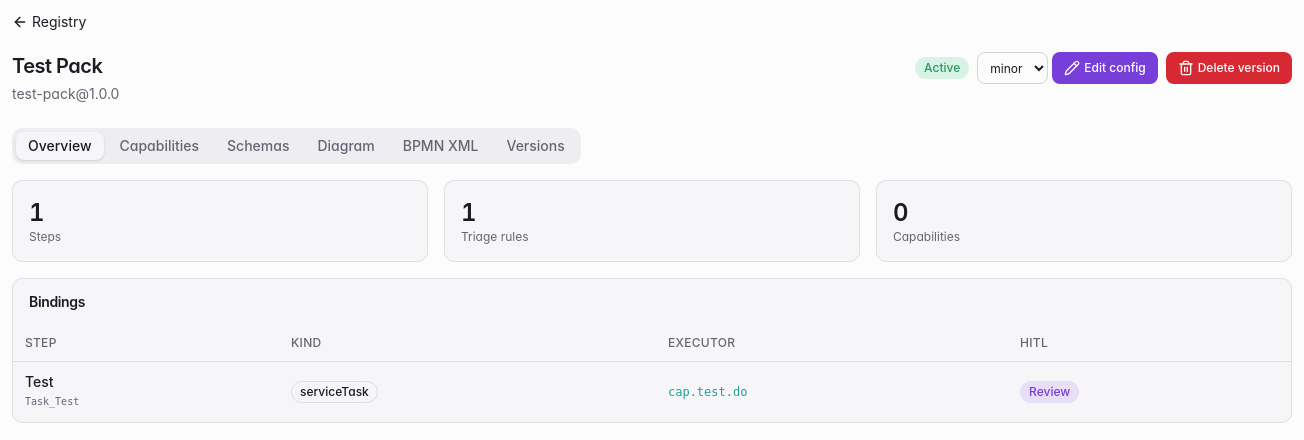
Scenario: Registry catalog › an owner can delete a pack version — confirming hits DELETE and navigates away
The width and height of the screenshot is (1304, 440).
Expected: the heading "Test Pack" is shown, [12,52,102,80]
Click the button "Delete version".
click(1229, 68)  # box [1166,52,1292,84]
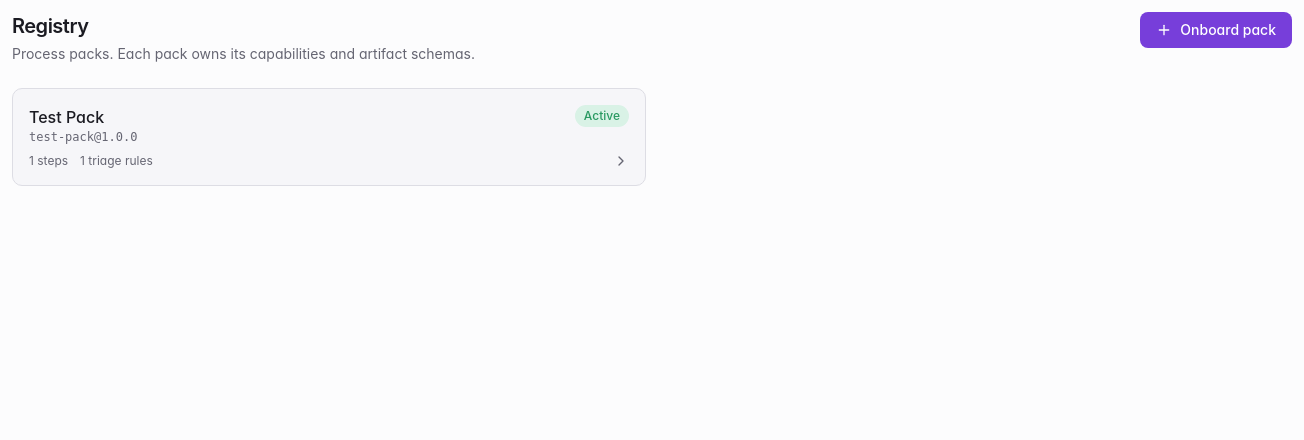
Result: the button "Delete version" is gone
